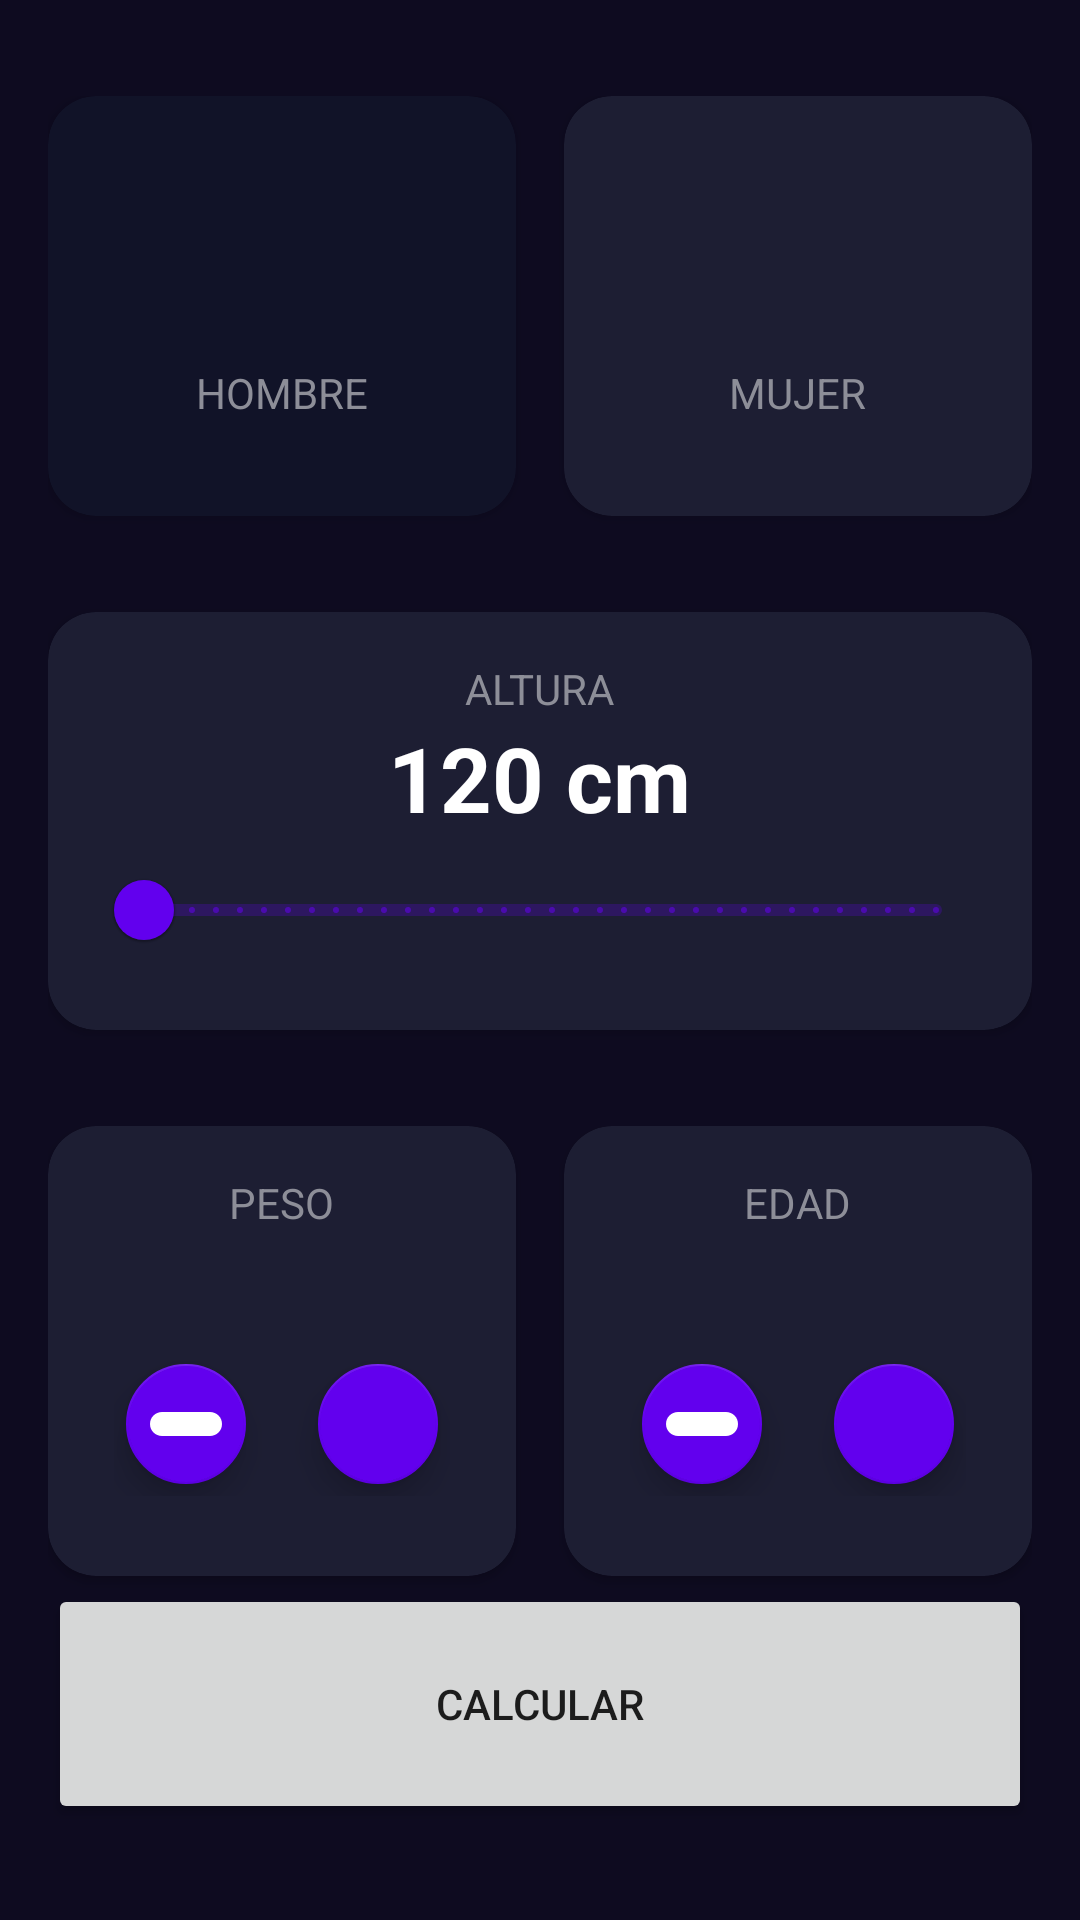

Screen size 1080 x 1920. Icon name, then its box in pixels as (x1, y1, x2, y2):
substract: (126, 1364, 246, 1484), (642, 1364, 762, 1484)
